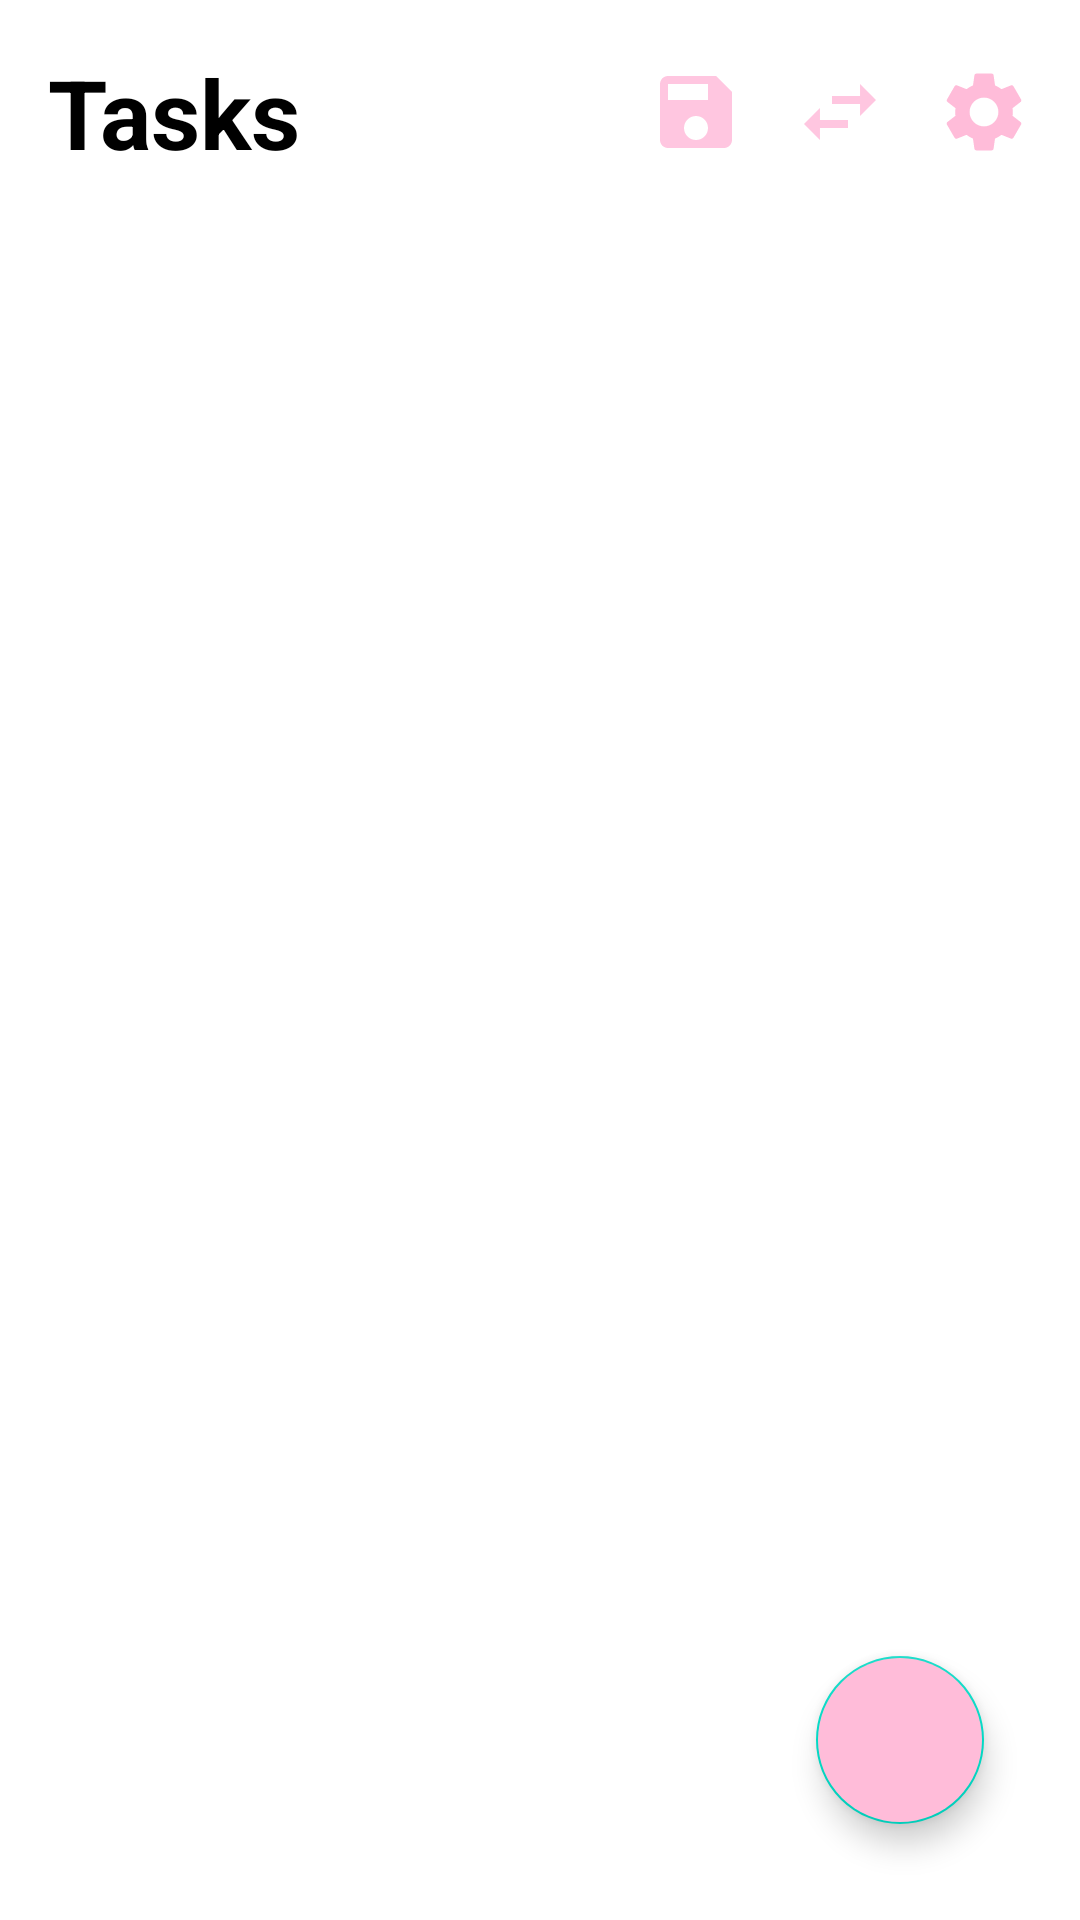

Icons on this 1080*1920 Android screen, each with the point to tap as [x,y]:
save: [696,112]
settings: [984,112]
swap horiz: [840,112]
